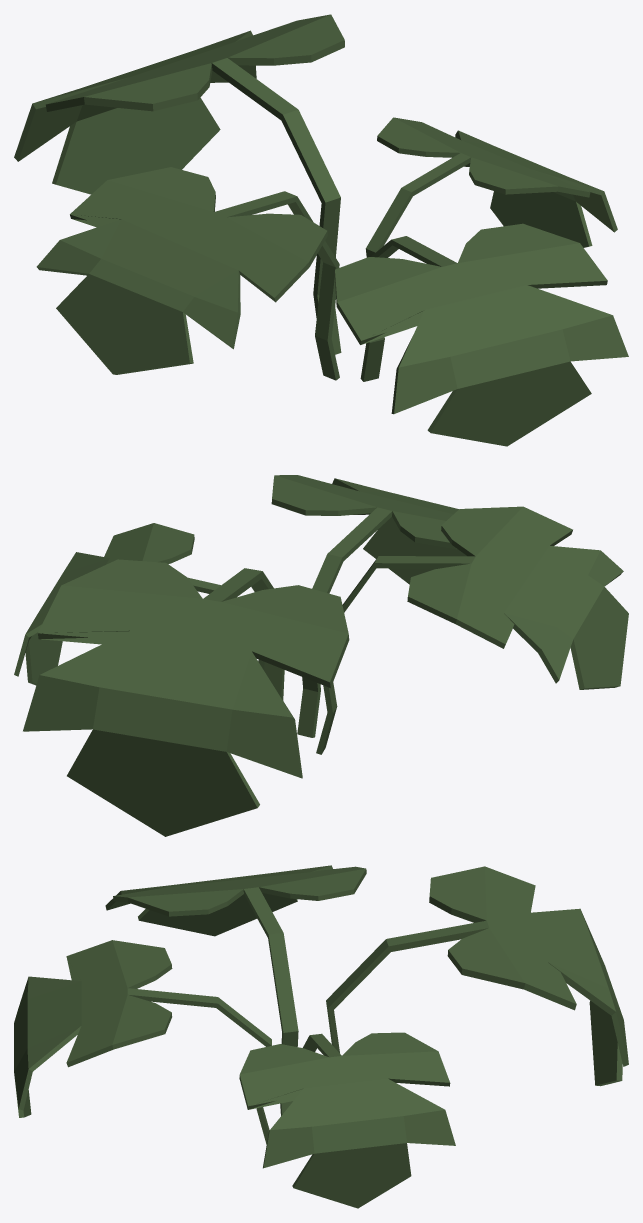
File: Plant_4.gltf
The picture shows the model from 3 angles, top to bottom: view 1: azimuth 30°, elevation 25°; view 2: azimuth 150°, elevation 25°; view 3: azimuth 270°, elevation 25°; orthographic projection. The views are drawn at different scales.
Visible parts, largest first — view 1: Plant_4; view 2: Plant_4; view 3: Plant_4.
Part boxes in pixels (x1,y1,x2,y2): Plant_4: (14, 14, 628, 446); Plant_4: (14, 475, 628, 836); Plant_4: (14, 865, 628, 1208).
Bounding box in the file's own units: 1.91 × 0.8109 × 2.12.
